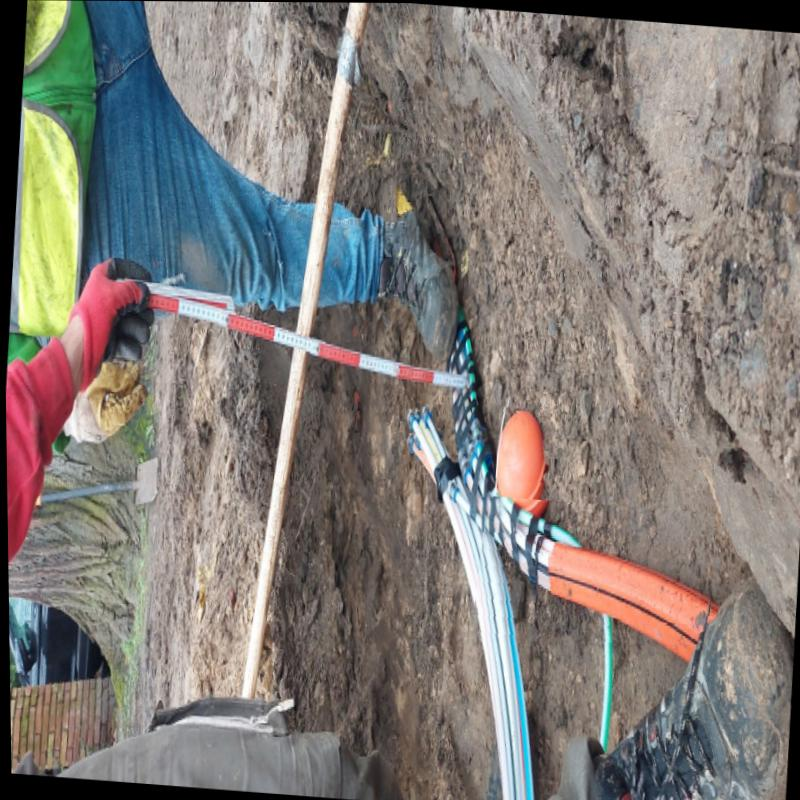Kugelmarker: (494, 407, 545, 514)
Orang-Speednetrohrchen: (480, 496, 708, 656)
